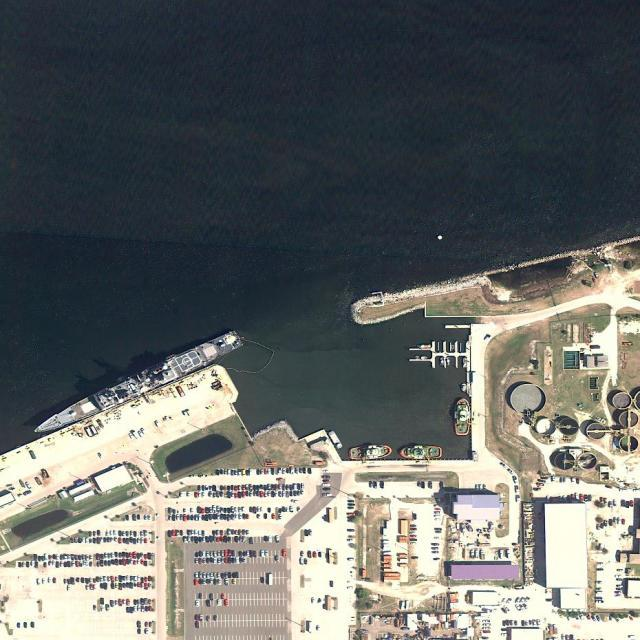Cruiser: (30, 328, 244, 438)
Hovercraft: (348, 443, 392, 461), (454, 397, 471, 436), (400, 445, 443, 460)
